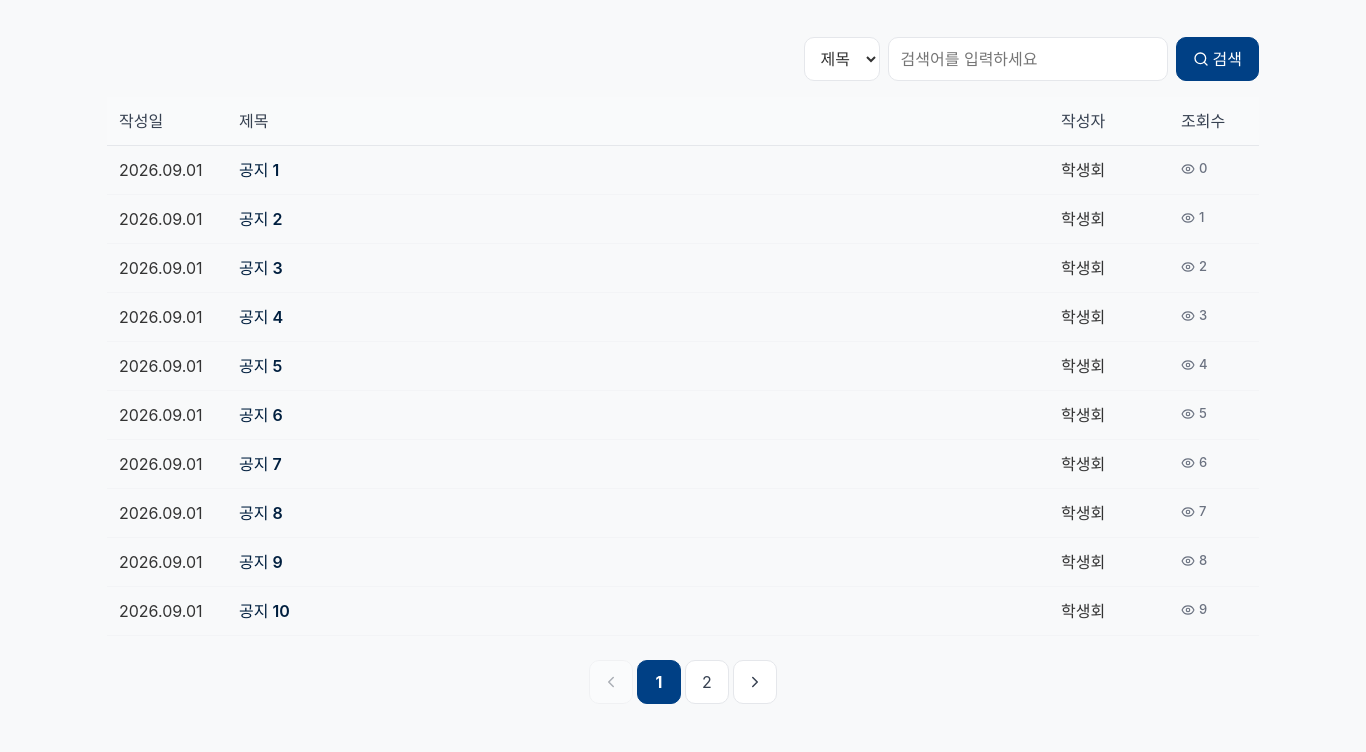
NoticePage › paginates 10 per page
(page scrolled)
Click the button "2". click: (707, 682)
box: top-left (685, 660), bottom-right (729, 704)
(page scrolled)
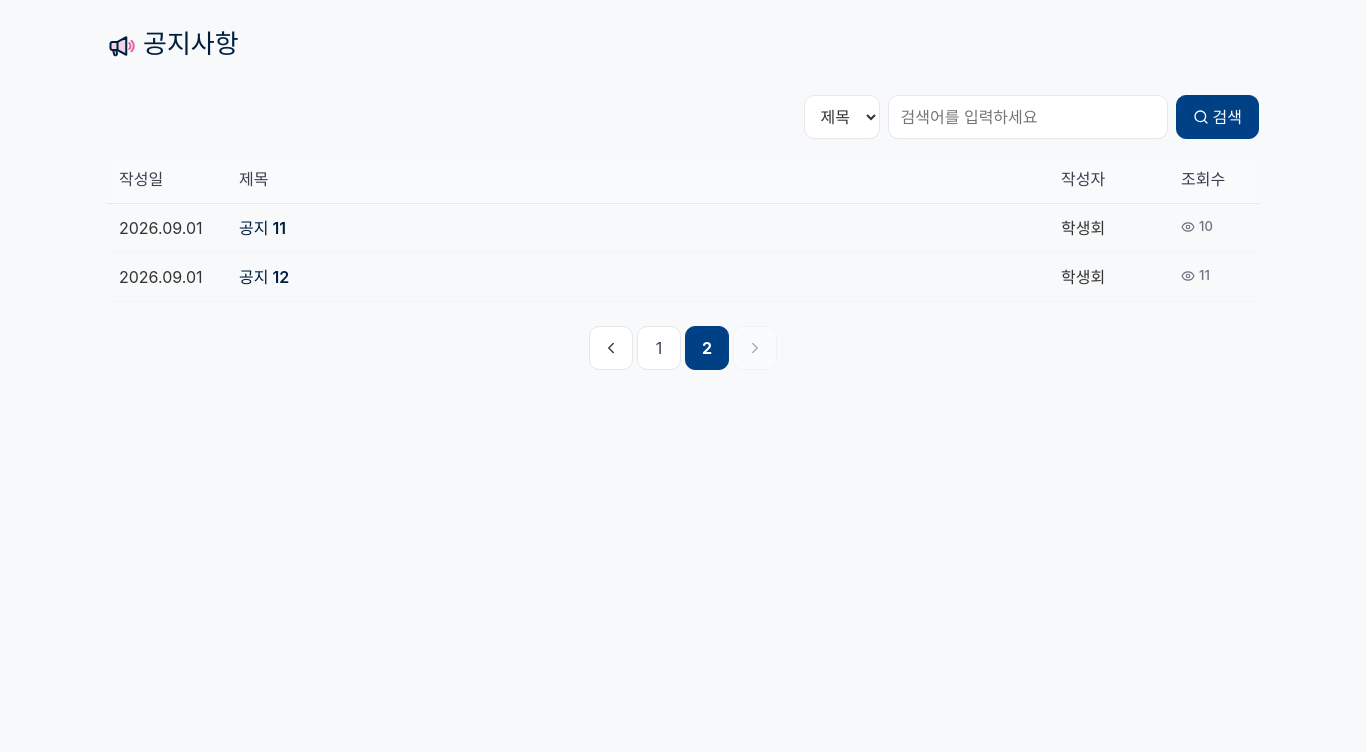
Expected: the number of links is 2, top-left (239, 216), bottom-right (286, 240); top-left (239, 265), bottom-right (289, 289)
